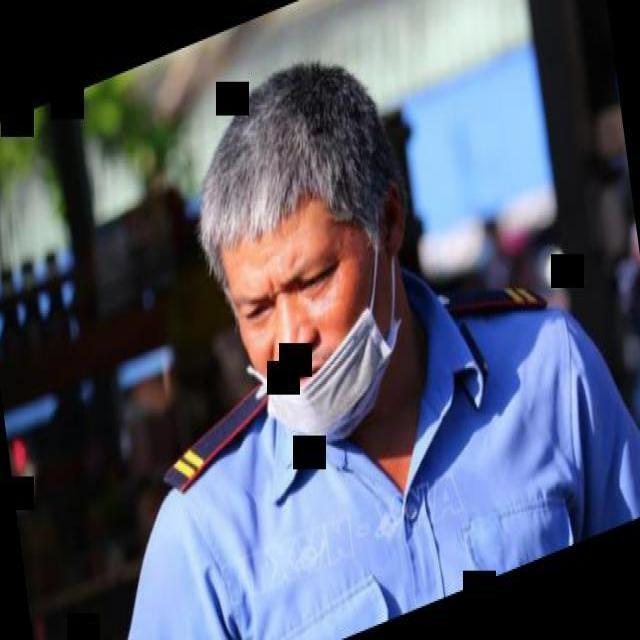hairnet: (255, 295, 400, 434)
